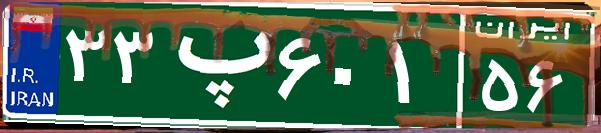0: (330, 28, 385, 110)
1: (385, 28, 445, 110)
3: (57, 26, 110, 107), (110, 28, 158, 105)
5: (475, 38, 525, 113)
6: (273, 28, 330, 110), (525, 38, 570, 115)
پ: (158, 15, 273, 115)
